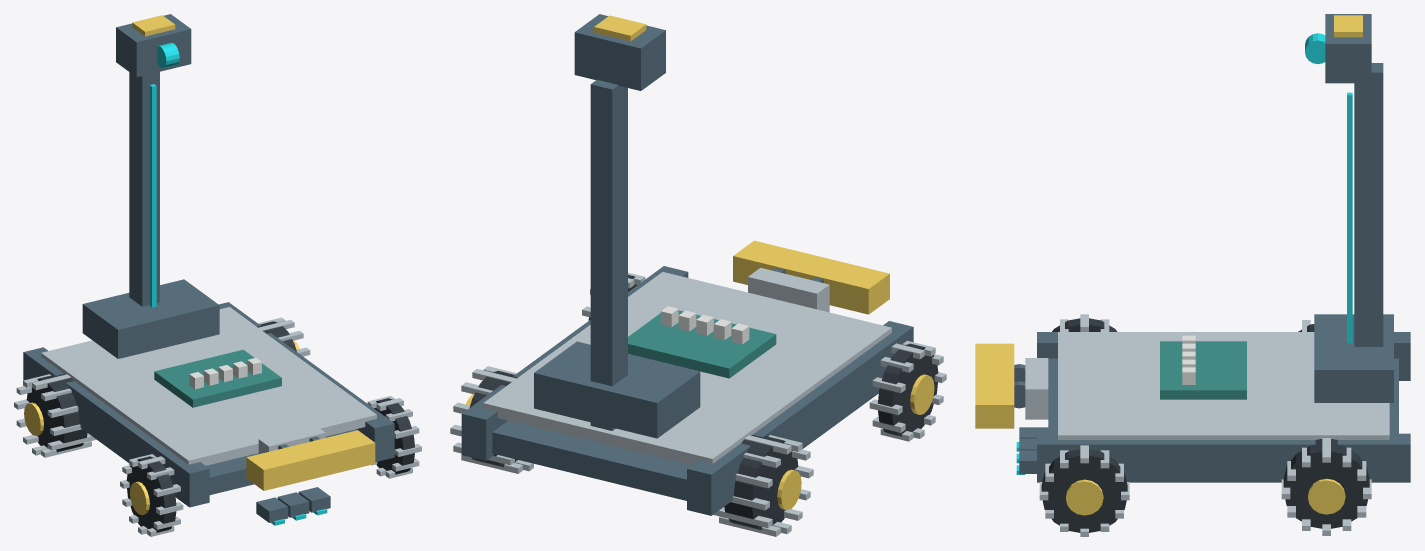
File: default_4rubber_2wd_DRAFT.glb
3 renders of one model, left to right at view 1: azimuth 30°, elevation 25°; view 2: azimuth 150°, elevation 25°; view 3: azimuth 270°, elevation 25°, orthographic. The views are drawn at different scales.
Visible parts, largest first — view 1: Chassis_Top, Battery_Low_Rear, Camera_Mast, Chassis_Rail_-1, Universal_AttachmentDock_Fixed, Controller_PCB, Camera_Housing, Wheel_Rear_-1, Wheel_Front_-1, Chassis_Rail_1, Camera_Mast_Cyan, Chassis_Lower (+9 smaller); view 2: Chassis_Top, Camera_Mast, Battery_Low_Rear, Chassis_Rail_-1, Chassis_Lower, Universal_AttachmentDock_Fixed, Controller_PCB, Camera_Housing, Wheel_Rear_-1, Chassis_Rail_1, Wheel_Front_-1, Ultrasonic_Front (+4 smaller); view 3: Chassis_Top, Chassis_Rail_1, Camera_Mast, Battery_Low_Rear, Controller_PCB, Wheel_Rear_1, Wheel_Front_1, Universal_AttachmentDock_Fixed, Camera_Housing, Camera_Mast_Cyan, Ultrasonic_Front, Chassis_Lower (+5 smaller).
Boxes of the visible parts, <box> form: Chassis_Top: <box>41,307,376,465</box>; Battery_Low_Rear: <box>82,279,219,358</box>; Camera_Mast: <box>129,72,159,306</box>; Chassis_Rail_-1: <box>23,347,209,507</box>; Universal_AttachmentDock_Fixed: <box>246,430,375,490</box>; Controller_PCB: <box>154,349,281,407</box>; Camera_Housing: <box>116,14,191,77</box>; Wheel_Rear_-1: <box>26,374,87,452</box>; Wheel_Front_-1: <box>126,456,176,532</box>; Chassis_Rail_1: <box>219,302,394,461</box>; Camera_Mast_Cyan: <box>149,84,156,307</box>; Chassis_Lower: <box>206,429,357,494</box>; Chassis_Top: <box>483,272,891,465</box>; Camera_Mast: <box>590,80,627,430</box>; Battery_Low_Rear: <box>534,341,700,438</box>; Chassis_Rail_-1: <box>687,321,913,515</box>; Chassis_Lower: <box>492,420,691,500</box>; Universal_AttachmentDock_Fixed: <box>733,240,889,314</box>; Controller_PCB: <box>628,310,776,378</box>; Camera_Housing: <box>574,14,665,90</box>; Wheel_Rear_-1: <box>724,434,798,530</box>; Chassis_Rail_1: <box>461,266,688,460</box>; Wheel_Front_-1: <box>877,343,938,436</box>; Ultrasonic_Front: <box>748,268,829,312</box>; Chassis_Top: <box>1058,332,1389,439</box>; Chassis_Rail_1: <box>1037,433,1410,482</box>; Camera_Mast: <box>1354,63,1383,346</box>; Battery_Low_Rear: <box>1314,314,1393,402</box>; Controller_PCB: <box>1160,341,1246,399</box>; Wheel_Rear_1: <box>1283,439,1369,528</box>; Wheel_Front_1: <box>1041,449,1127,532</box>; Universal_AttachmentDock_Fixed: <box>975,343,1014,428</box>; Camera_Housing: <box>1325,14,1371,83</box>; Camera_Mast_Cyan: <box>1347,92,1352,343</box>; Ultrasonic_Front: <box>1025,358,1048,419</box>; Chassis_Lower: <box>1048,358,1398,433</box>.
Bounding box in the file's own units: 0.238 × 0.336 × 0.3005.
